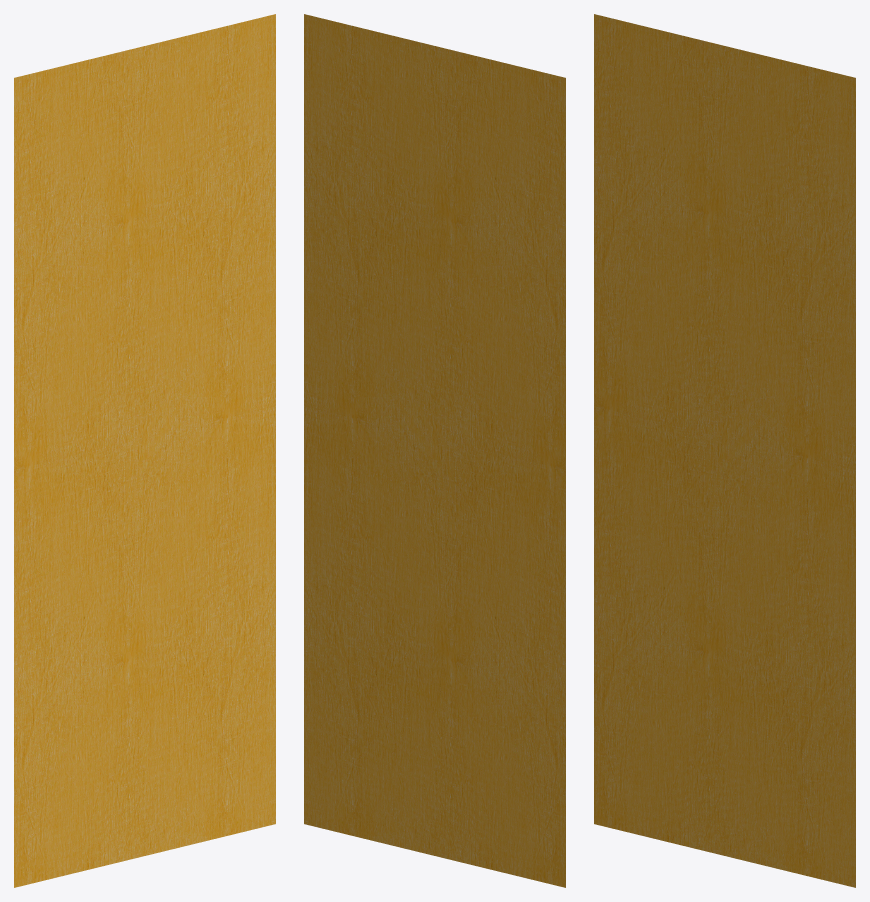
The model's file is animated_kitchen_curtain_small.gltf.
The picture shows the model from 3 angles, left to right: view 1: azimuth 30°, elevation 25°; view 2: azimuth 150°, elevation 25°; view 3: azimuth 330°, elevation 25°; orthographic projection.
Visible parts, largest first — view 1: Шторы.001; view 2: Шторы.001; view 3: Шторы.001.
Part boxes in pixels (x1,y1,x2,y2): Шторы.001: (14,14,275,887); Шторы.001: (304,14,565,887); Шторы.001: (594,14,855,887).
Bounding box in the file's own units: 1.02 × 3 × 0.
